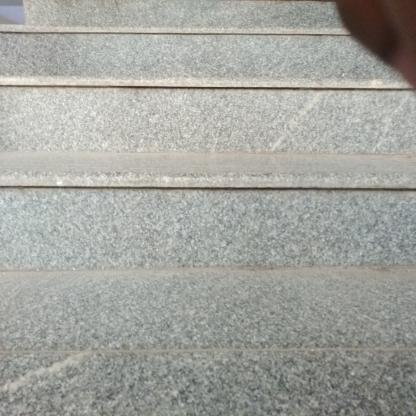stairs: (1, 88, 414, 413)
